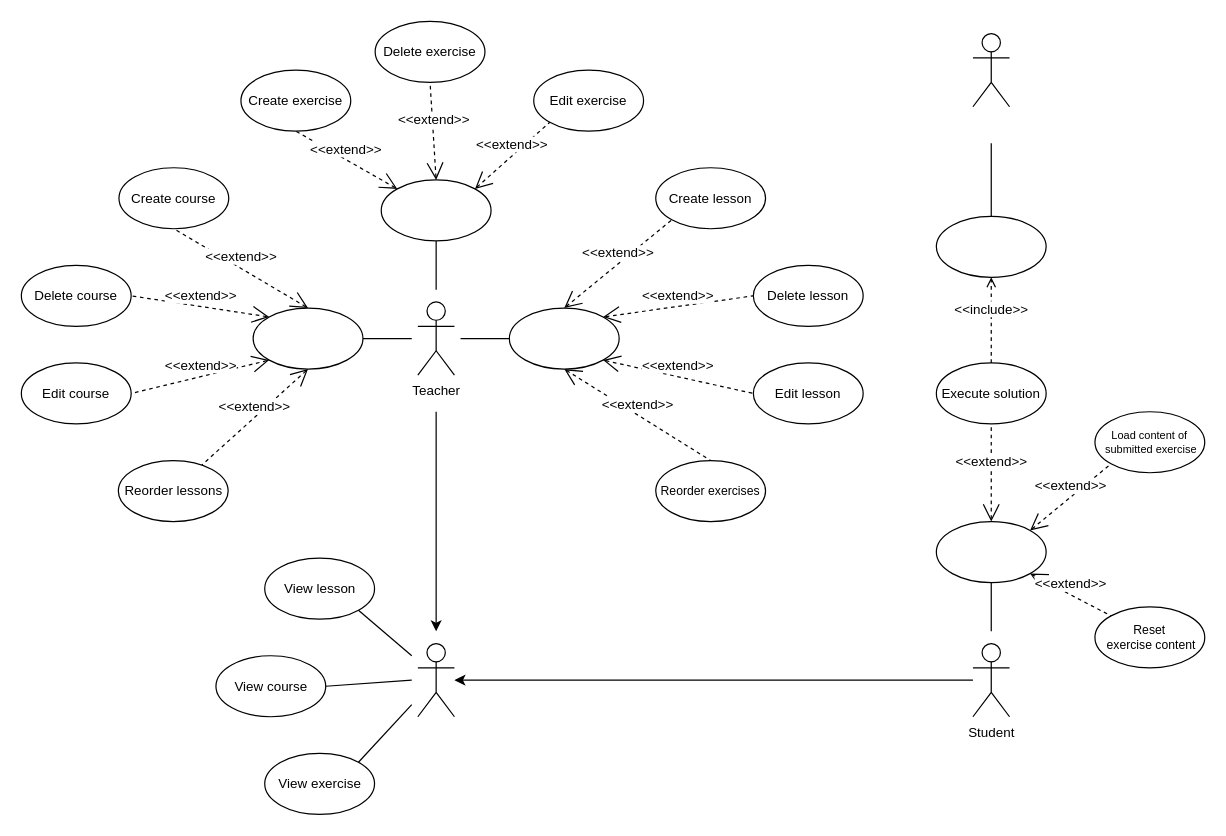
Image size: 1226x836. Some labels were removed from this diagram. Each missing label, with the centre of its shape:
Estimate solution: the point at 990,246
Manage course: the point at 307,338
Manage exercise: the point at 435,210
Manage lesson: the point at 563,338
Solve exercise: the point at 990,551
System: the point at 991,69
User: the point at 435,679
